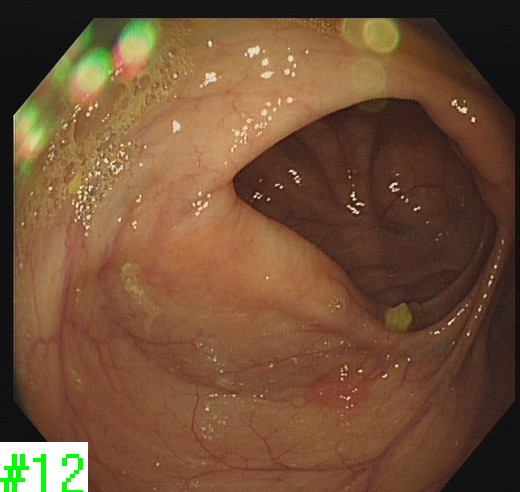adenoma: (300, 360, 373, 410)
